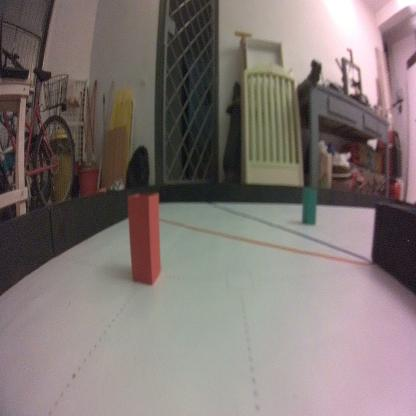green: (300, 184, 318, 229)
red: (126, 188, 162, 290)
